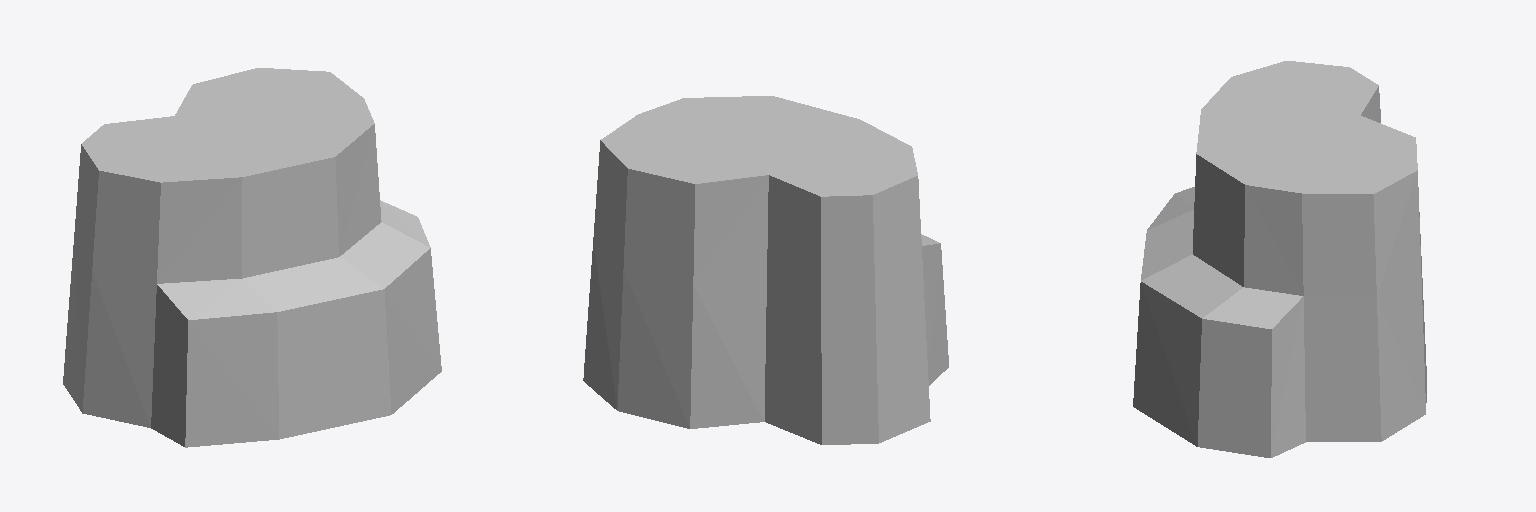
The model's file is rock_cliff_03.obj.
3 renders of one model, left to right at view 1: azimuth 30°, elevation 25°; view 2: azimuth 150°, elevation 25°; view 3: azimuth 270°, elevation 25°, orthographic.
Visible parts, largest first — view 1: rock_cliff_03; view 2: rock_cliff_03; view 3: rock_cliff_03.
Part boxes in pixels (left/top/right/bottom): rock_cliff_03: left=63, top=68, right=441, bottom=447; rock_cliff_03: left=583, top=96, right=948, bottom=444; rock_cliff_03: left=1133, top=61, right=1426, bottom=457.
Bounding box in the file's own units: 578 × 396 × 438.